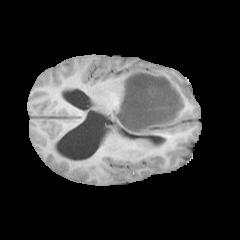glioma: (109, 66, 186, 135)
